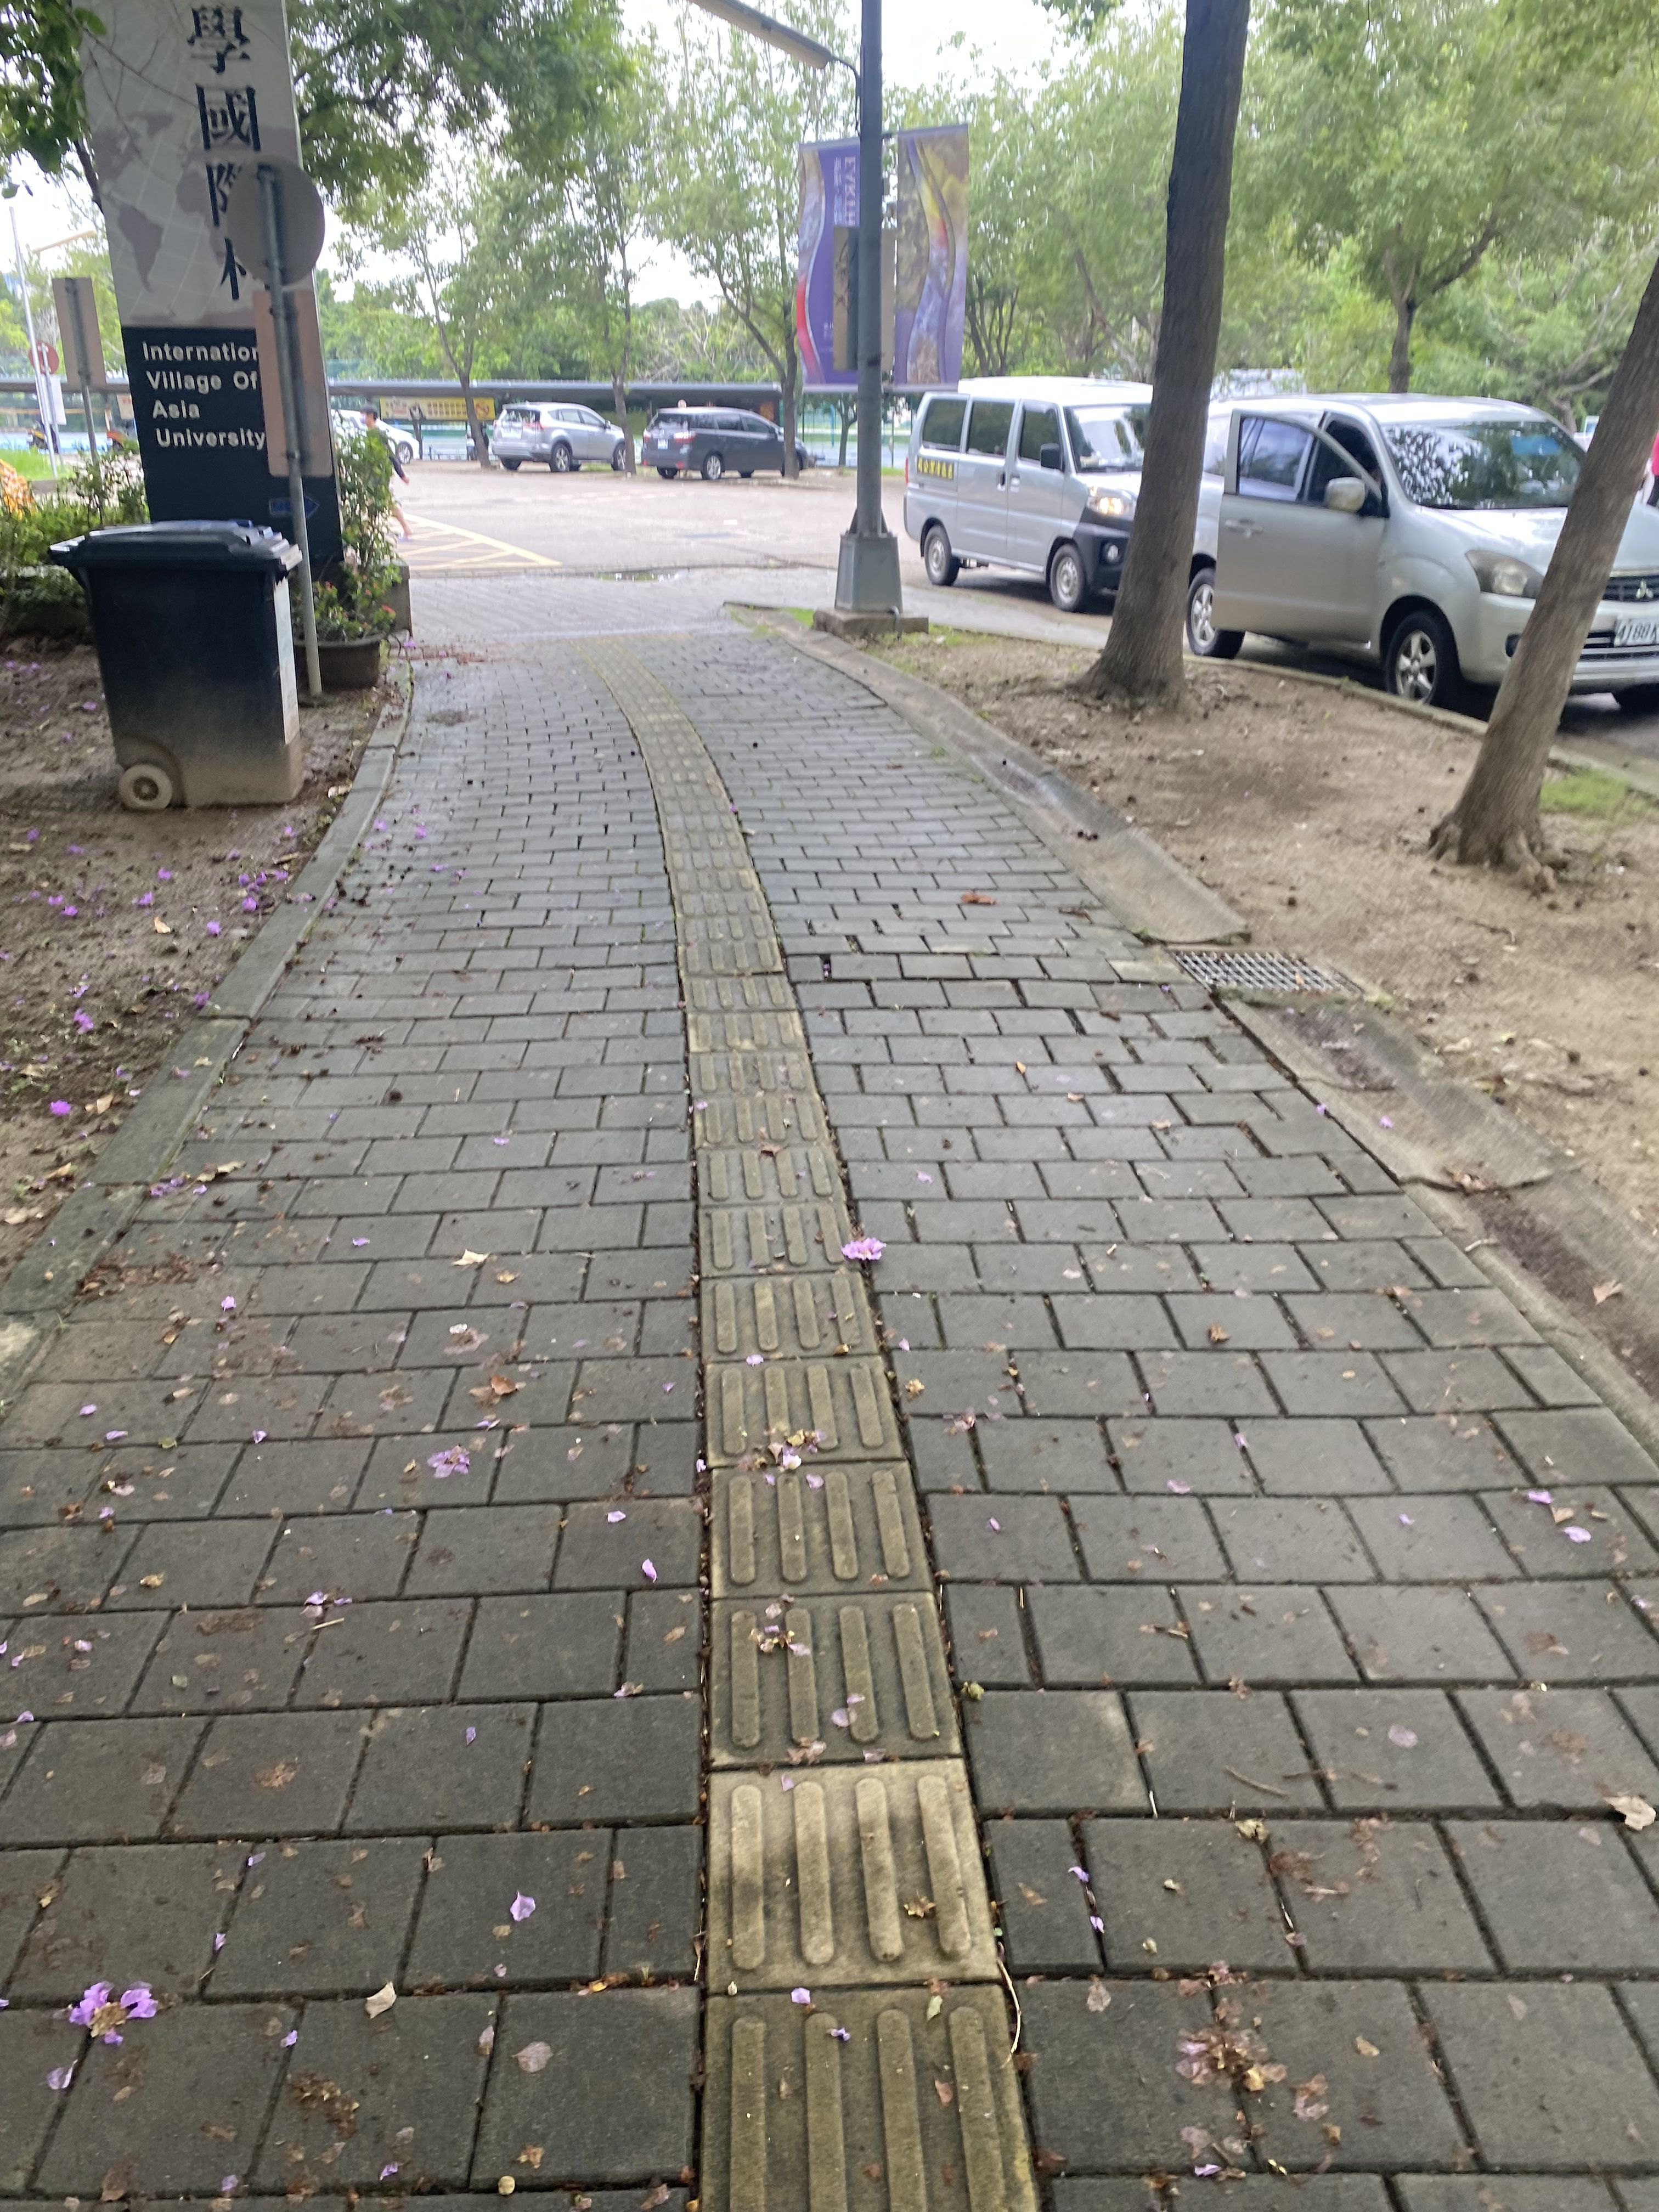sidewalk: (0, 573, 1659, 2212)
